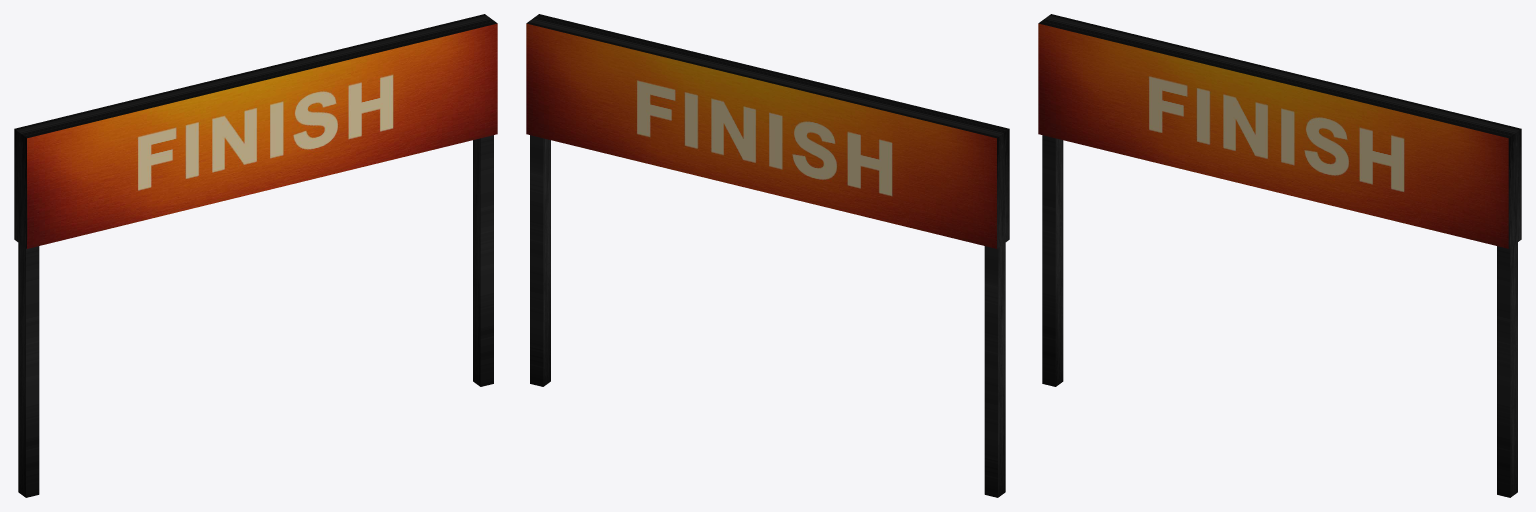
File: finish check point.fbx
3 views of the same model, side by side, from view 1: azimuth 30°, elevation 25°; view 2: azimuth 150°, elevation 25°; view 3: azimuth 330°, elevation 25° (orthographic).
Visible parts, largest first — view 1: polySurface1; view 2: polySurface1; view 3: polySurface1.
Boxes of the visible parts, x1,y1,x2,y2 form: polySurface1: (14,14,497,497); polySurface1: (526,14,1009,497); polySurface1: (1038,14,1521,497).
Size of the model in its own units: 282 by 207 by 13.45.
Materials: 1 (1 with a texture image).
